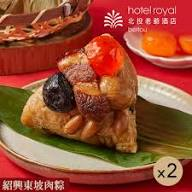zongzi: (20, 34, 136, 152)
